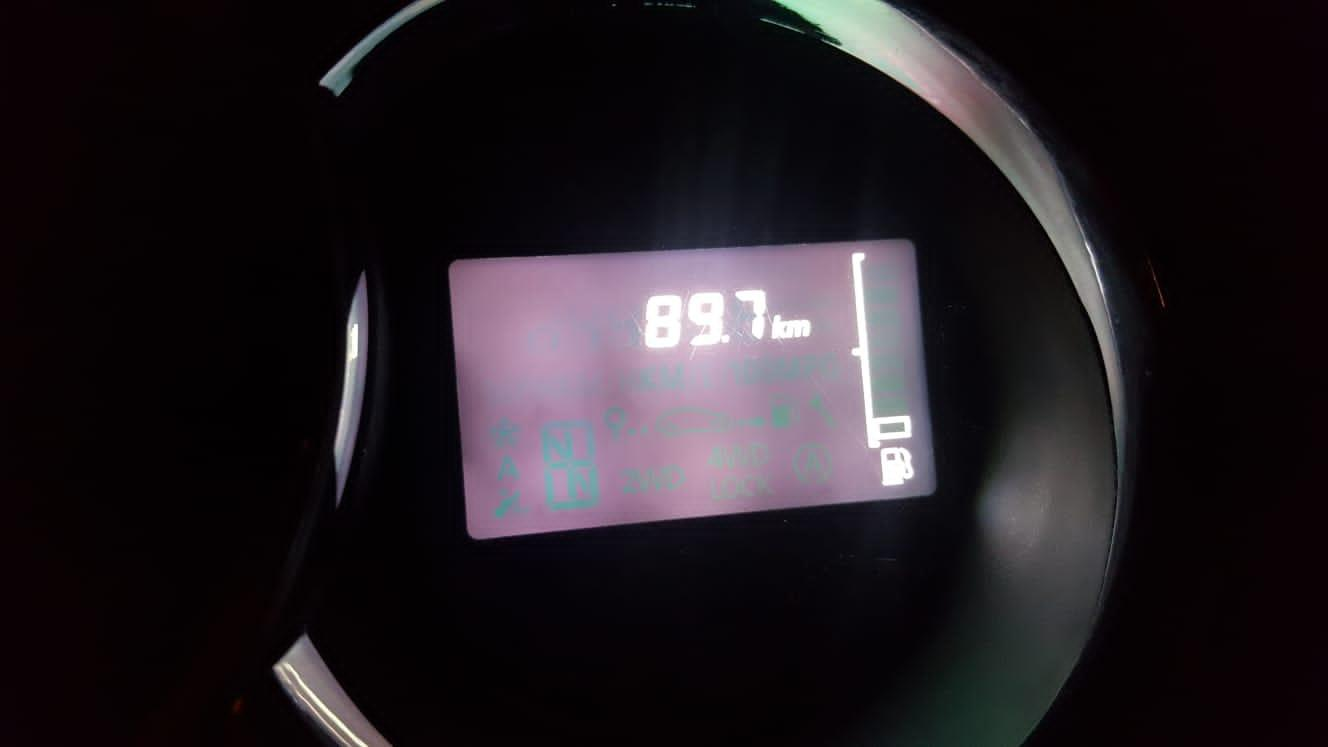,: (721, 334, 730, 343)
7: (734, 289, 766, 340)
8: (644, 294, 681, 348)
9: (687, 292, 723, 347)
X: (786, 319, 810, 338), (770, 313, 786, 338)
odometer: (443, 233, 944, 546)
